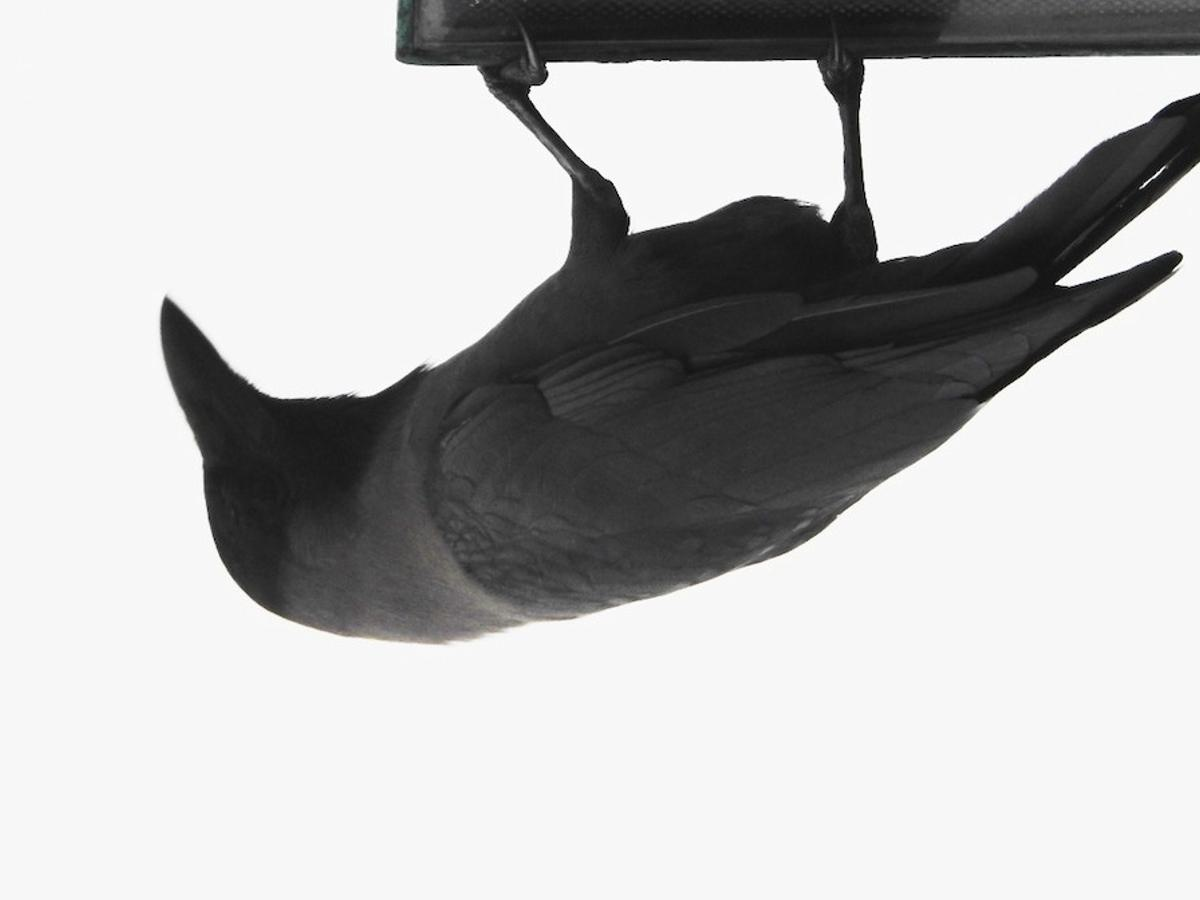crow: (142, 25, 1200, 655)
